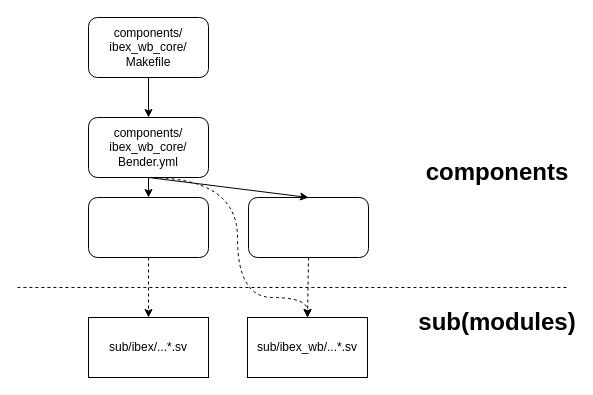
Image size: 593x395. Some labels were removed from this diagram. The box of each missing label's shape, as (x1, y1, x2, y2) in pixels:
components/ ibex/ Bender.yml: (88, 196, 208, 258)
components/ ibex_wb_common/ Bender.yml: (248, 196, 368, 258)
